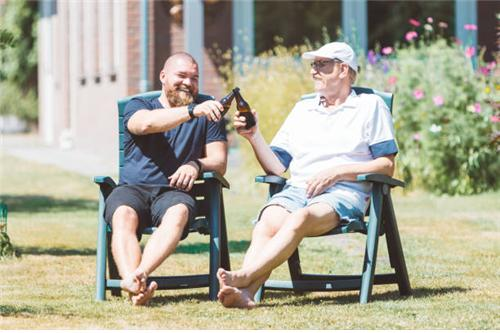alcohol: (209, 87, 241, 122), (233, 89, 256, 130)
